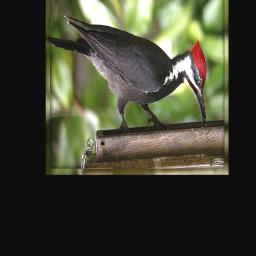Woodpecker: (46, 14, 207, 132)
